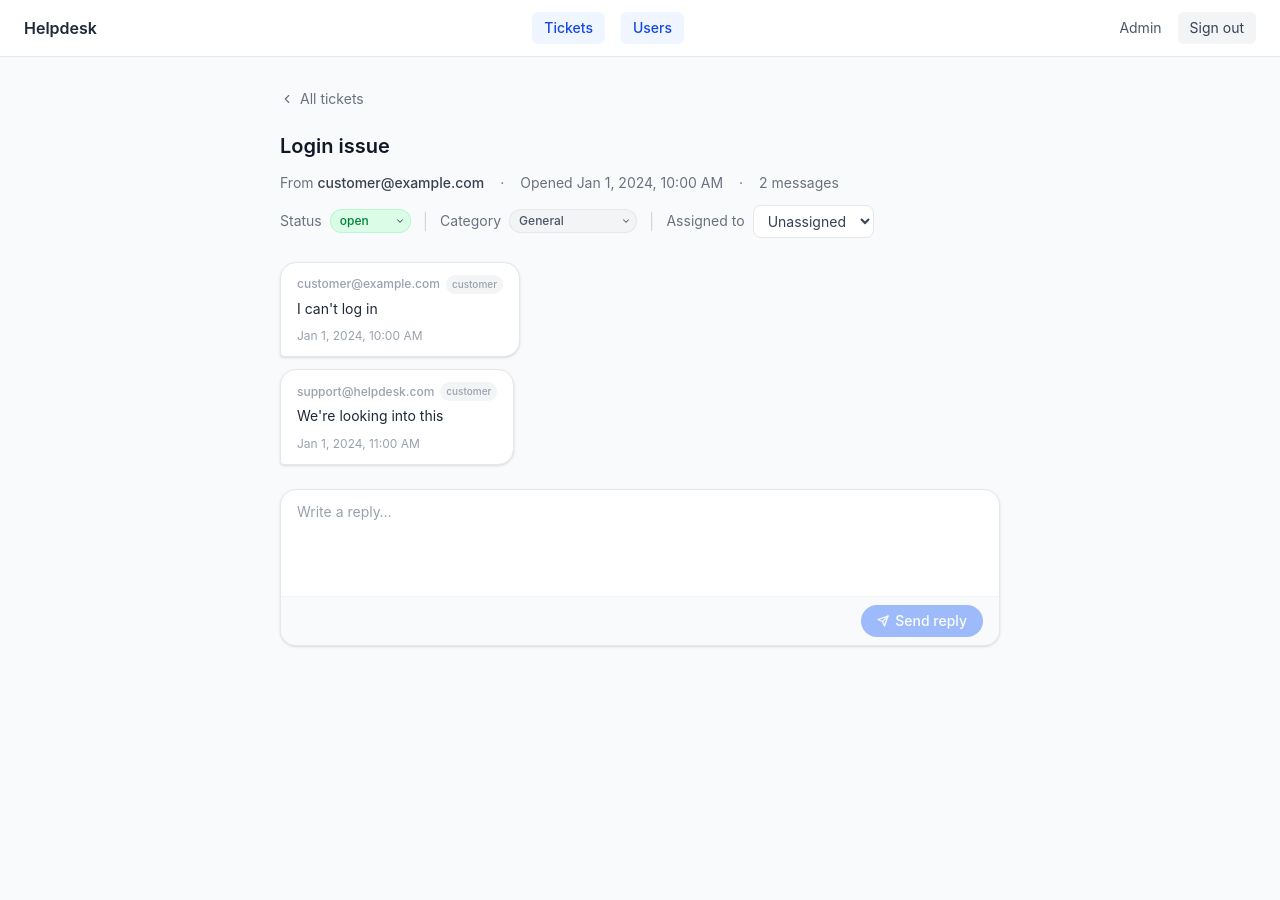
Test: TicketDetailPage — ReplyForm › appends the new message to the thread after successful submit
Check: the heading "Login issue" is shown, box [280,134,390,158]
Type "New reply from agent" into the text box with placeholder "Write a reply…". click: (640, 540)
box: [281,490,999,590]
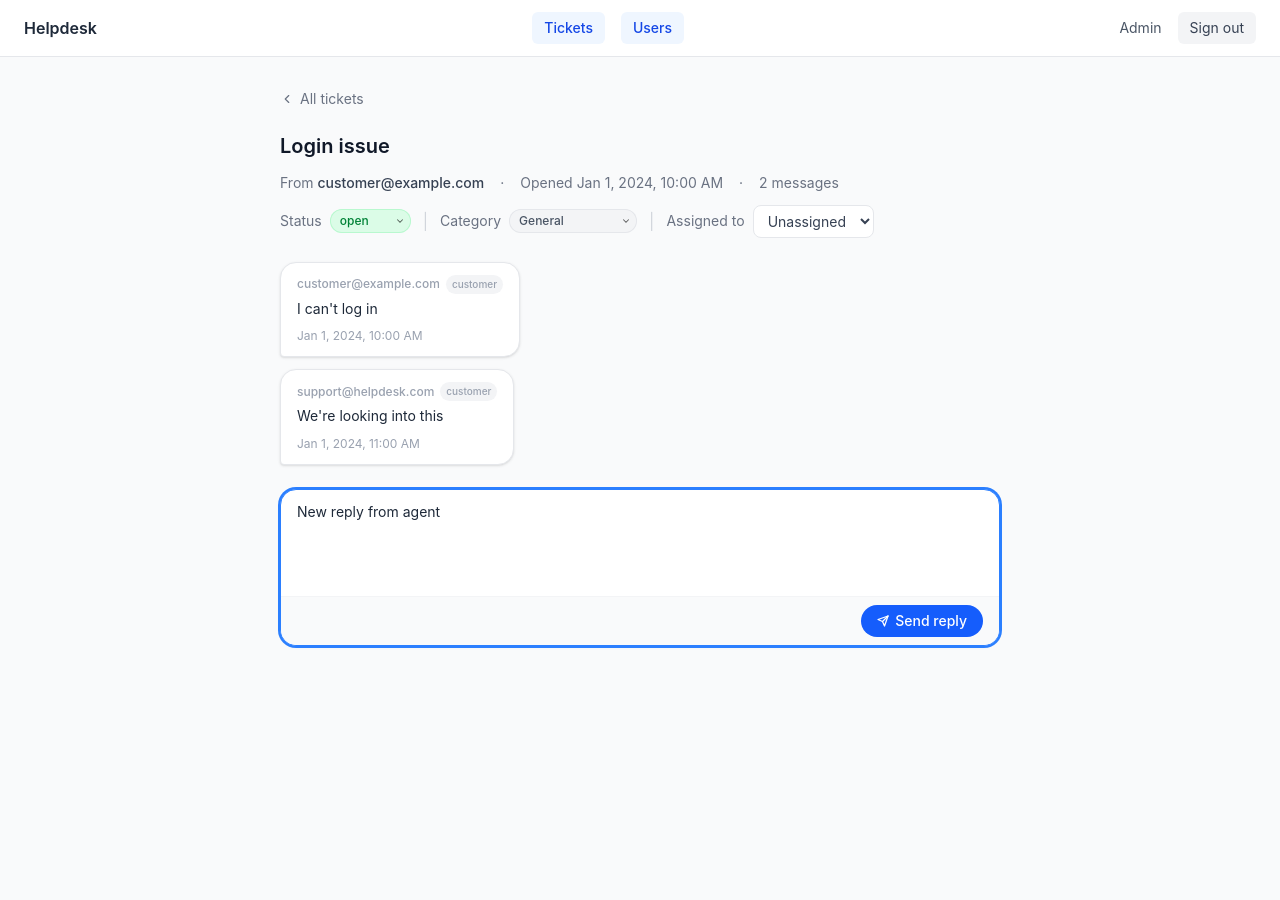
Click the button "Send reply". click: (922, 621)
box: [861,605,983,637]
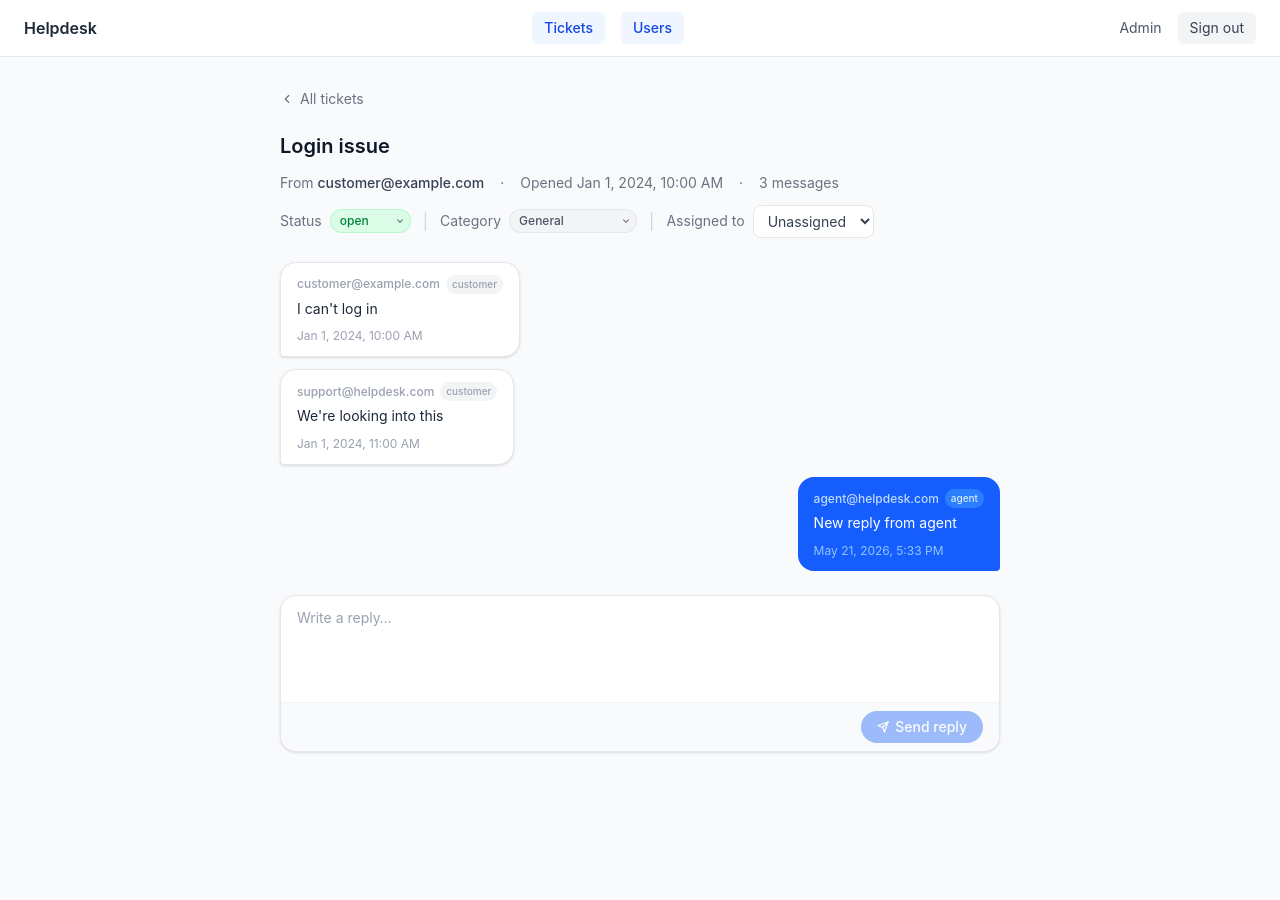
Check: the text "New reply from agent" is shown, box [814,514,957,531]
